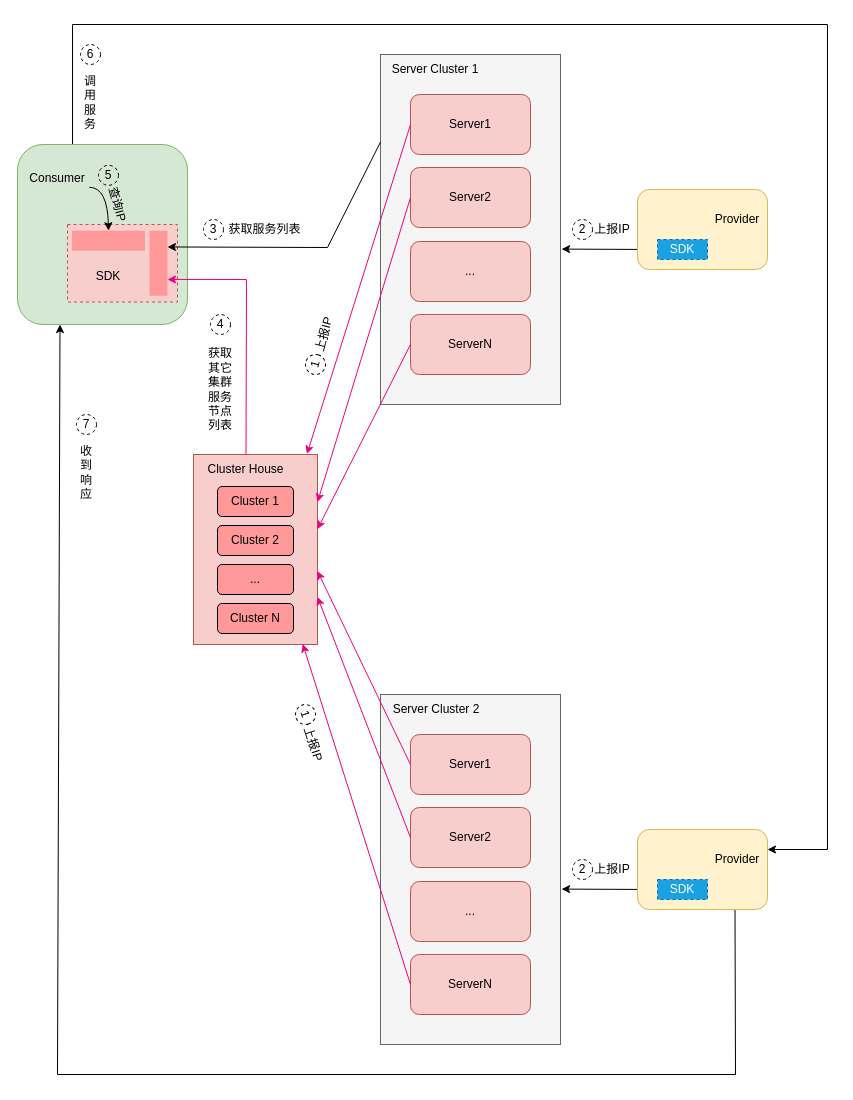
The diagram is 853 pixels wide and 1100 high, and some of its shapes have lost their labels. The centre of each missing label's shape, as x and y in pixels:
"支持多集群" belongs at pixel 158 262.
"支持跨集群" belongs at pixel 108 240.
